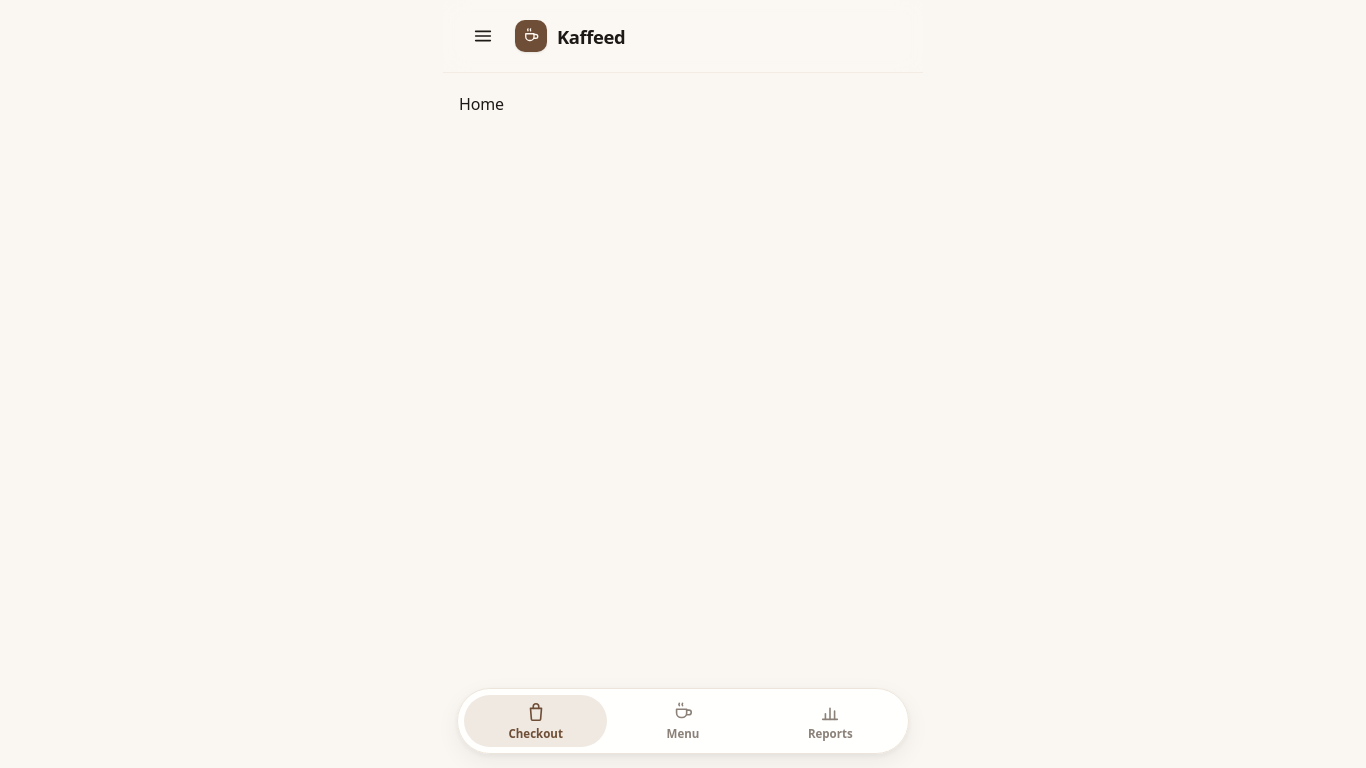
Scenario: Layout admin PIN gate › rejects a wrong PIN and does not open the sidebar
The width and height of the screenshot is (1366, 768).
Click the button named "open admin menu" at (483, 36), box [463, 16, 503, 56]
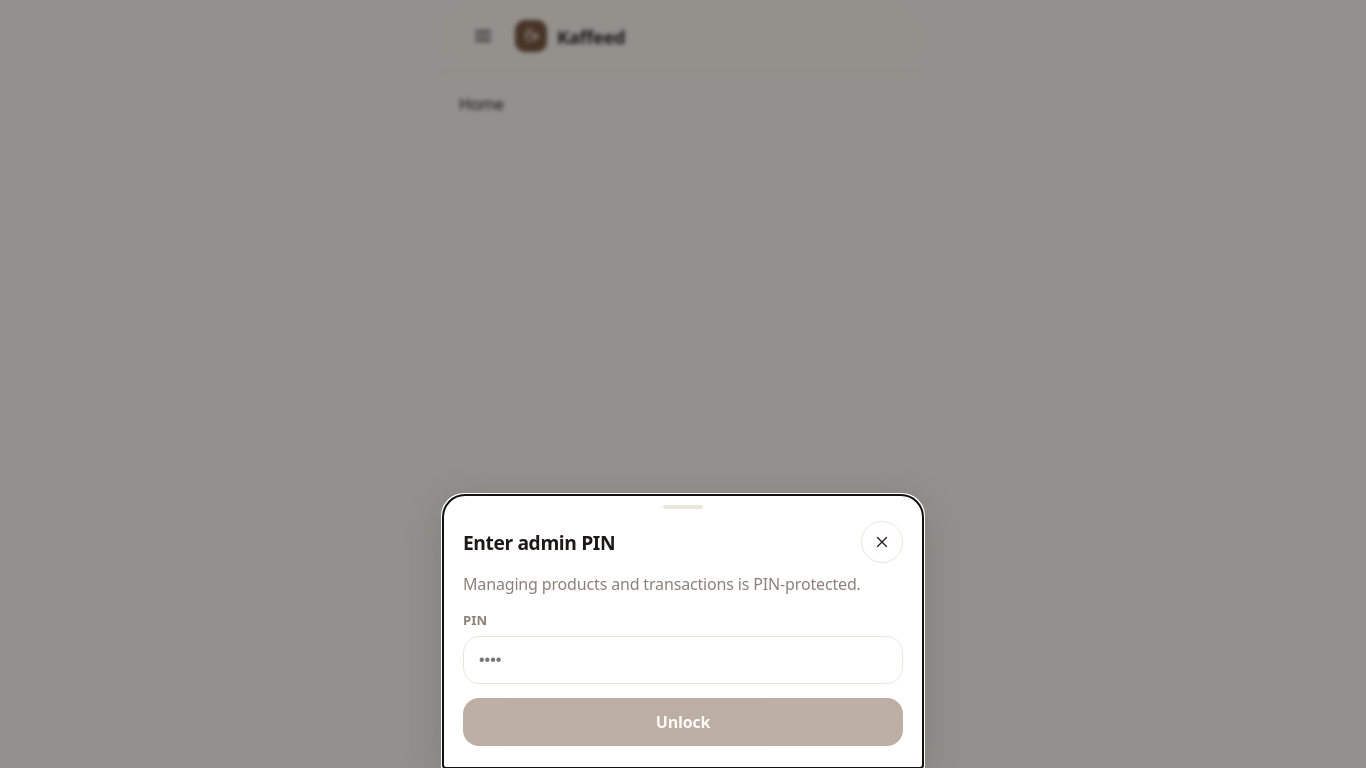
Type "0000" into the password field labelled "PIN" at (683, 660), box [463, 636, 903, 684]
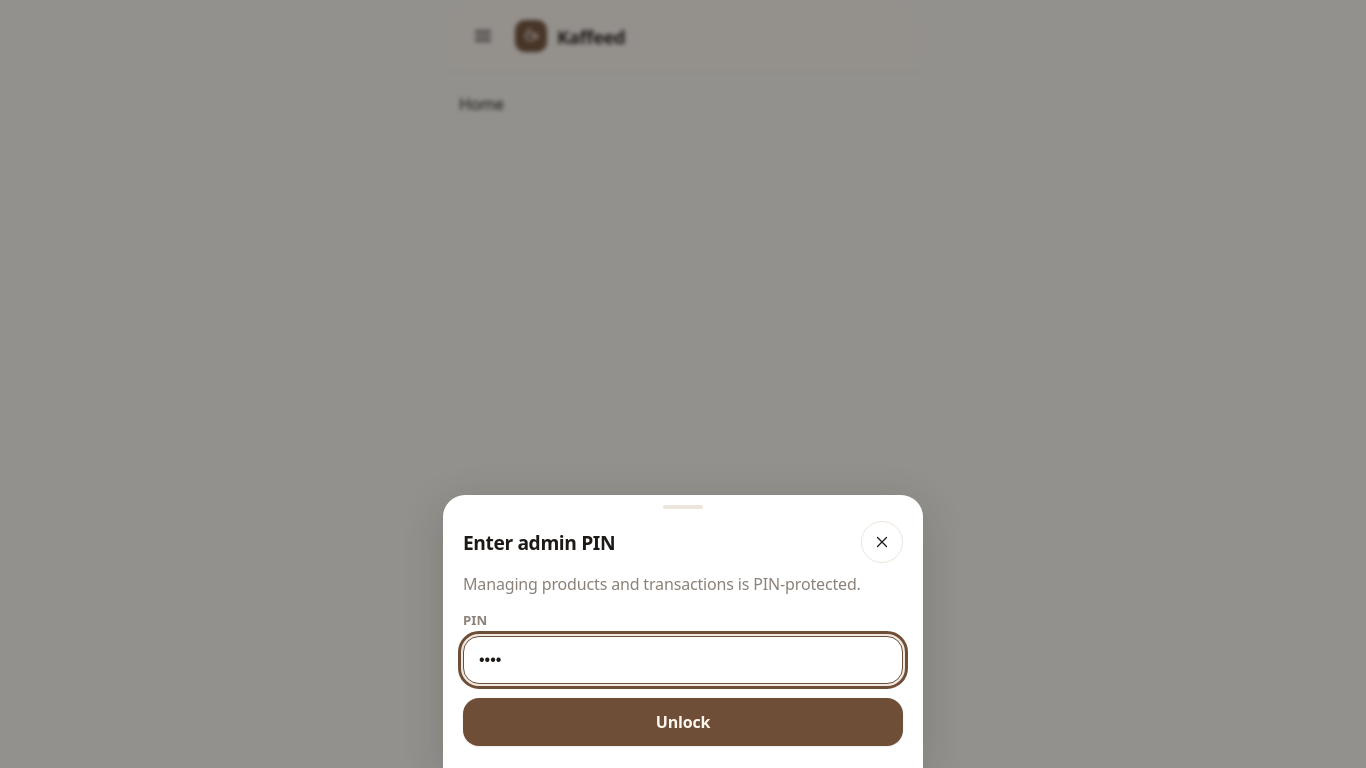
Click the button "Unlock" at (683, 722), box [463, 698, 903, 746]
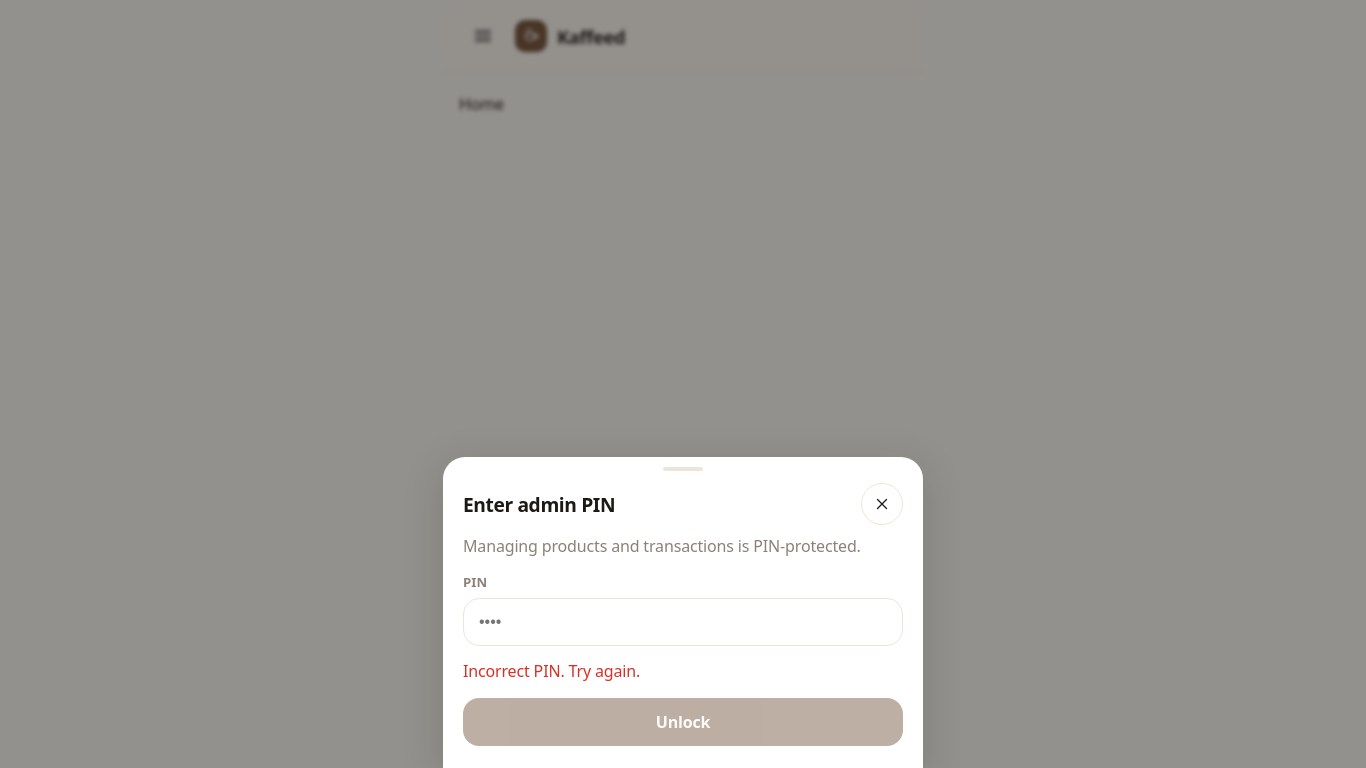
Result: the text "Incorrect PIN. Try again." is shown at [463, 660, 640, 682]
